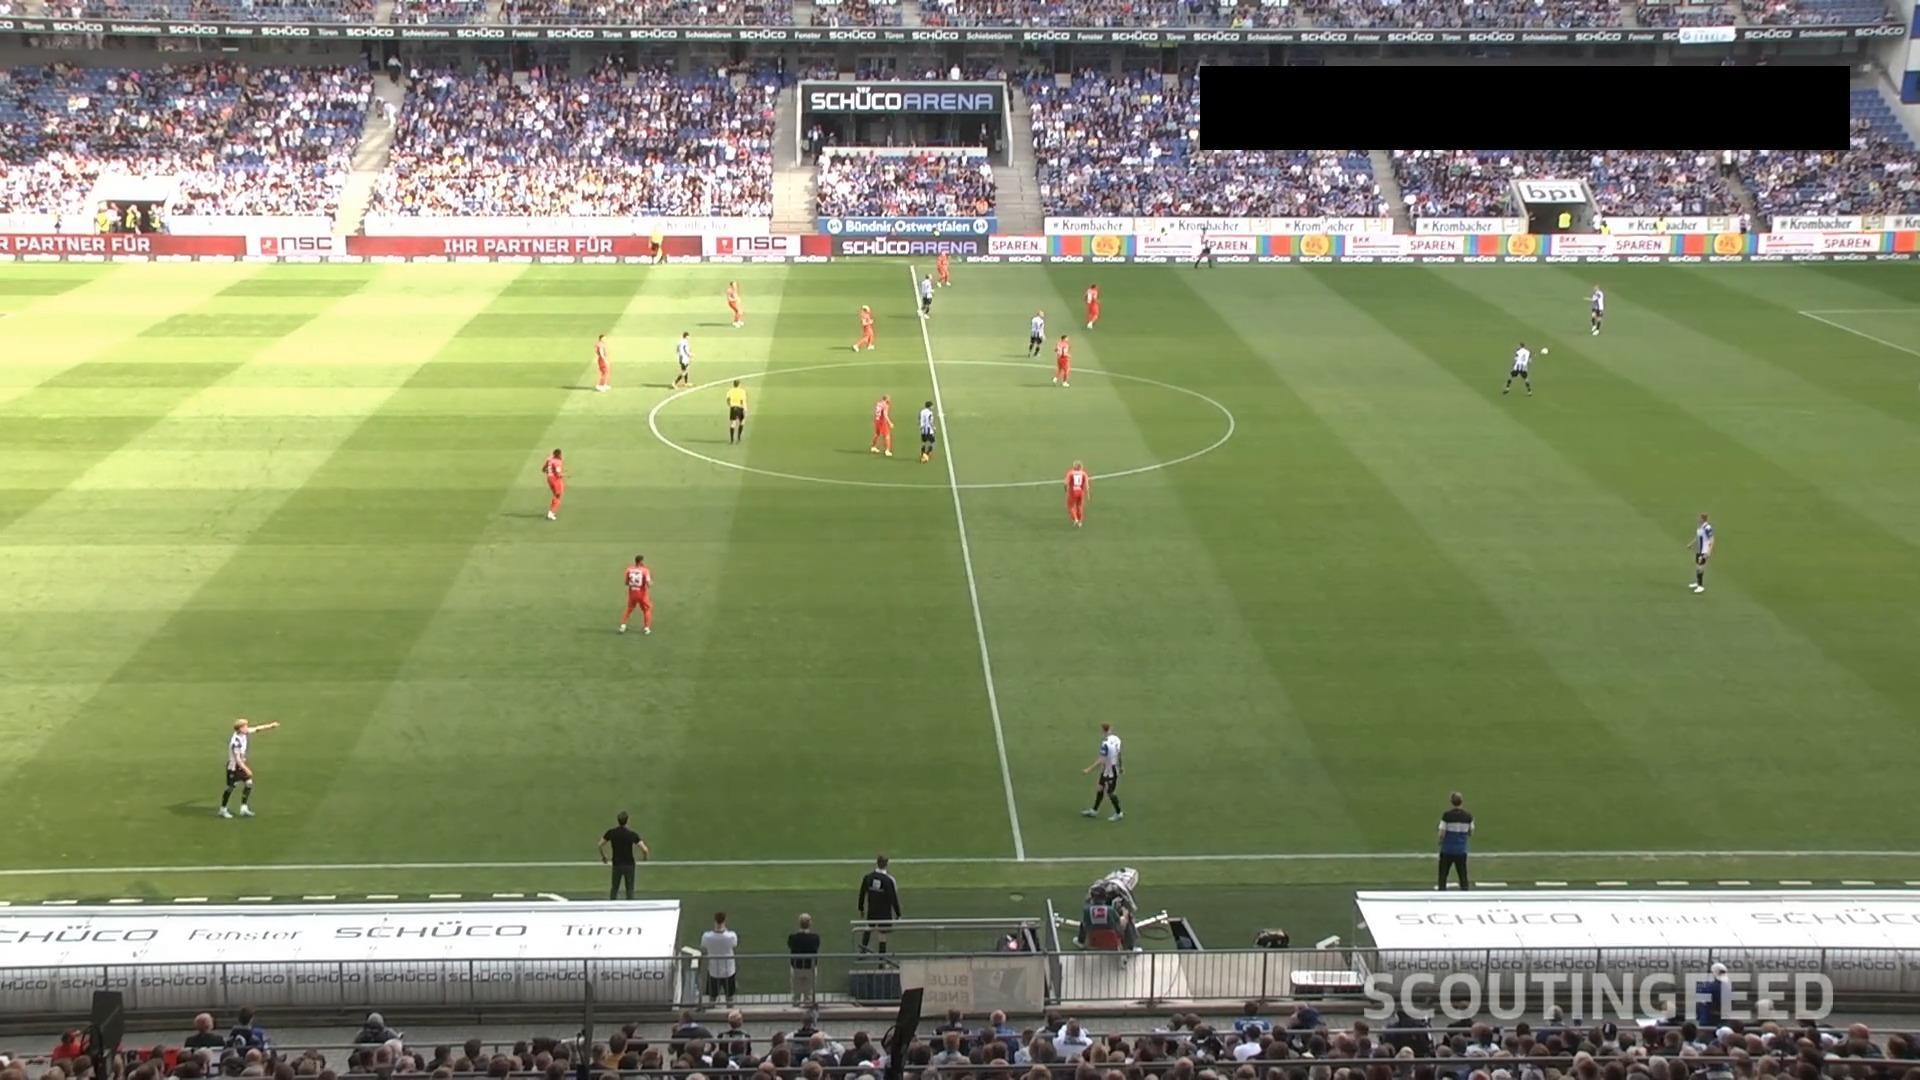ball: (1539, 345, 1551, 356)
